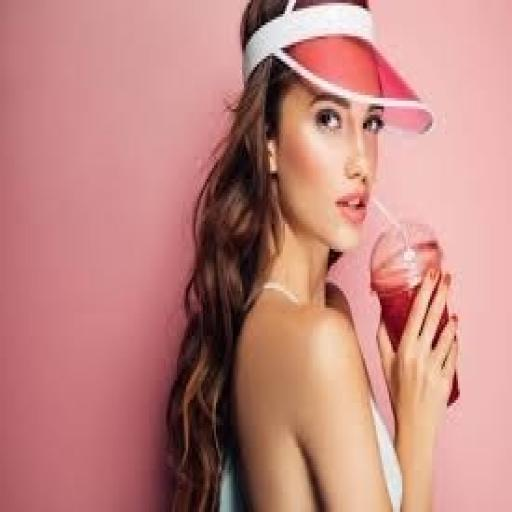drinking: (369, 218, 460, 406)
